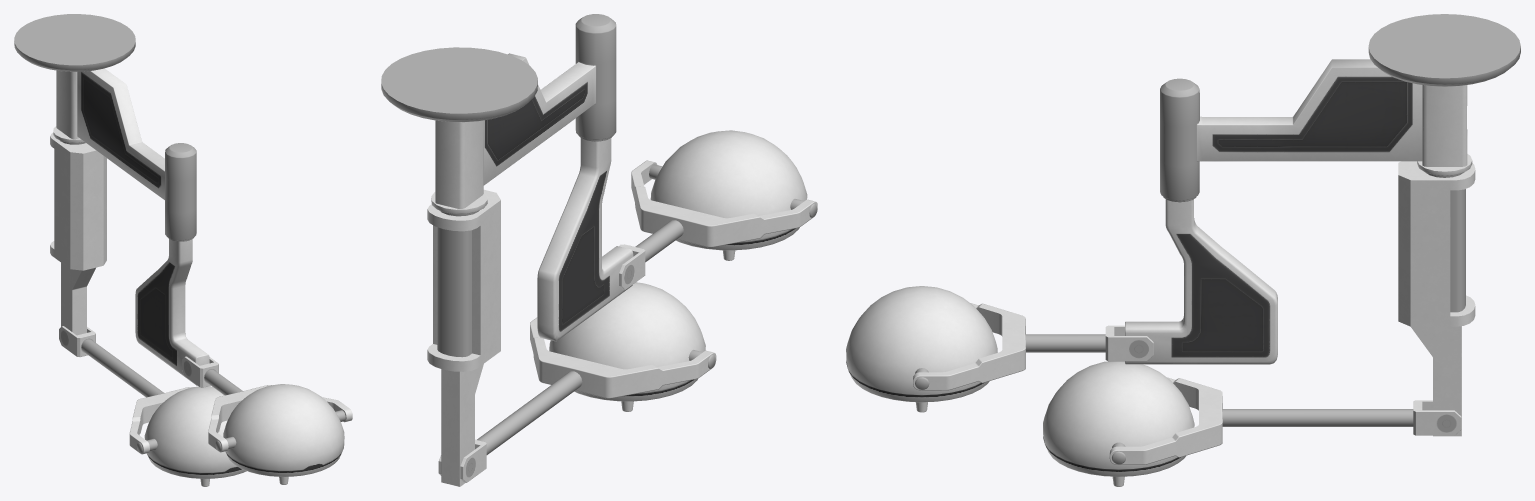
Rendered from MedLamp02.FBX.
3 renders of one model, left to right at view 1: azimuth 30°, elevation 25°; view 2: azimuth 150°, elevation 25°; view 3: azimuth 270°, elevation 25°, orthographic. The views are drawn at different scales.
Visible parts, largest first — view 1: Hinge1-1, Lamp1, Hinge2-1, Lamp2, Base, Hinge2-2, Hinge1-2; view 2: Hinge1-1, Hinge2-1, Lamp1, Base, Lamp2, Hinge2-2, Hinge1-2; view 3: Hinge1-1, Hinge2-1, Lamp1, Lamp2, Base, Hinge2-2, Hinge1-2.
Boxes of the visible parts, x1=… form: Hinge1-1: x1=53, y1=68, x2=209, y2=385; Lamp1: x1=223, y1=384, x2=344, y2=484; Hinge2-1: x1=50, y1=133, x2=106, y2=335; Lamp2: x1=144, y1=386, x2=246, y2=486; Base: x1=14, y1=14, x2=135, y2=71; Hinge2-2: x1=59, y1=326, x2=193, y2=454; Hinge1-2: x1=182, y1=356, x2=352, y2=452; Hinge1-1: x1=431, y1=14, x2=633, y2=341; Hinge2-1: x1=427, y1=189, x2=500, y2=486; Lamp1: x1=650, y1=130, x2=807, y2=260; Base: x1=381, y1=47, x2=537, y2=122; Lamp2: x1=549, y1=282, x2=705, y2=411; Hinge2-2: x1=438, y1=317, x2=716, y2=482; Hinge1-2: x1=619, y1=160, x2=817, y2=289; Hinge1-1: x1=1125, y1=59, x2=1472, y2=364; Hinge2-1: x1=1398, y1=161, x2=1475, y2=436; Lamp1: x1=846, y1=286, x2=997, y2=412; Lamp2: x1=1043, y1=361, x2=1194, y2=486; Base: x1=1368, y1=14, x2=1520, y2=86; Hinge2-2: x1=1109, y1=377, x2=1461, y2=464; Hinge1-2: x1=913, y1=303, x2=1153, y2=390.
Size of what is drawn, in the model's own units: 0.5265 by 1.33 by 1.86.
